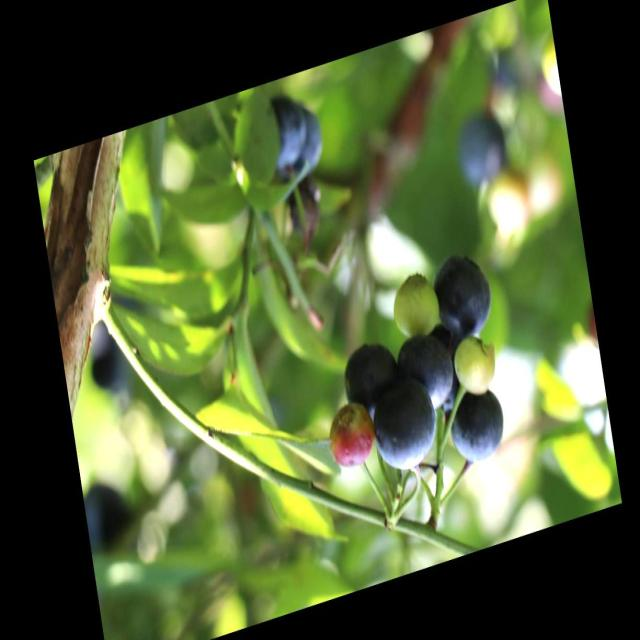blueberry: (368, 368, 440, 475), (429, 244, 494, 343), (391, 323, 456, 421), (337, 335, 402, 426), (448, 384, 507, 468), (456, 108, 510, 192), (277, 102, 328, 183), (264, 87, 312, 171)
blueberry-halfripe: (323, 400, 378, 472)
blueberry-unripe: (448, 322, 503, 402), (388, 268, 441, 345)
